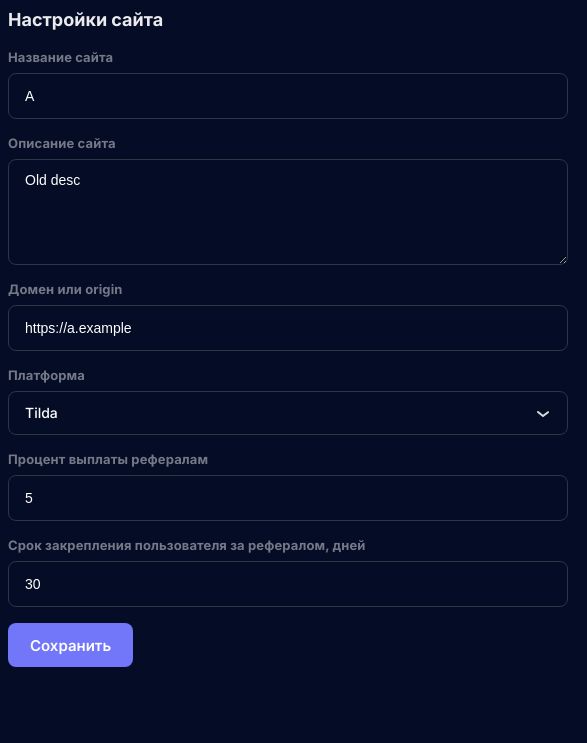
it: ProjectSettingsPage › does not replace invalid referral lock days with default on save
Clear the number field labelled "Срок закрепления пользователя за рефералом, дней" at coordinates (288, 584), box [9,562,567,606]
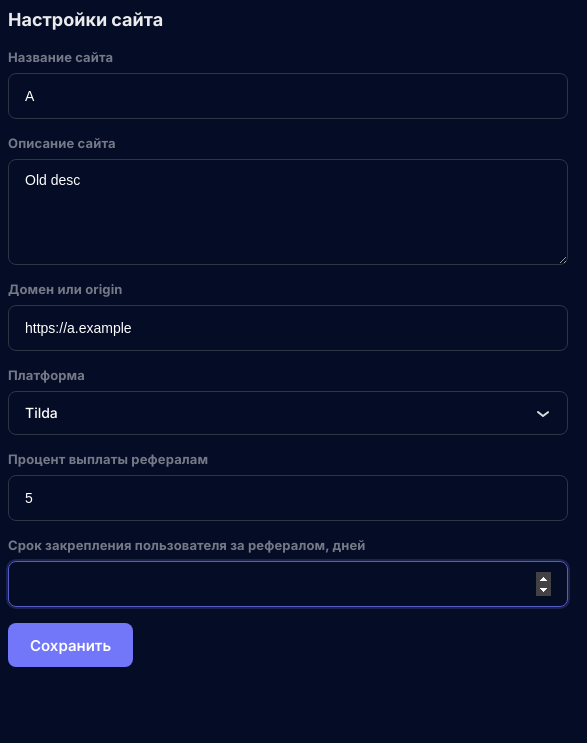
Click the button "Сохранить" at coordinates (71, 645), box [8,623,133,667]
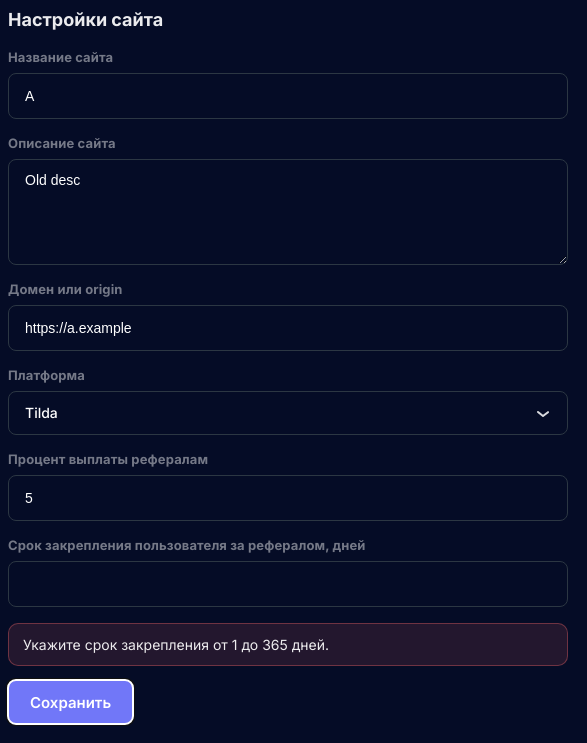
expect the text "Укажите срок закрепления от 1 до 365 дней." is shown: met, box [8,623,568,666]
